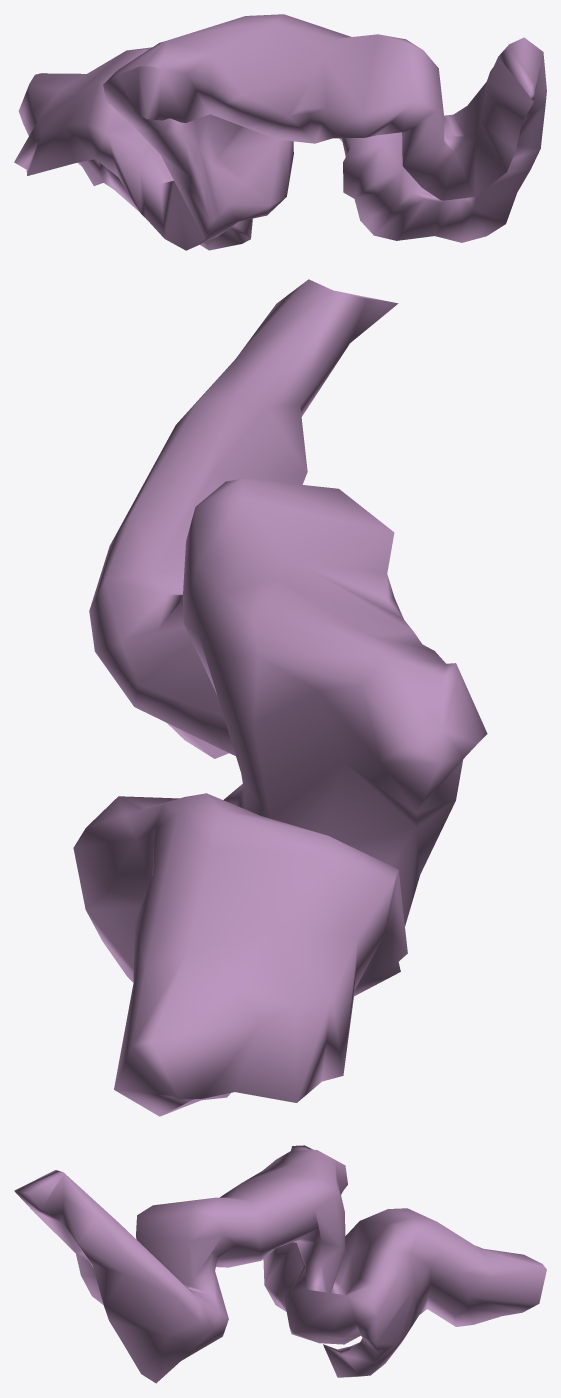
The picture shows the model from 3 angles, top to bottom: view 1: azimuth 30°, elevation 25°; view 2: azimuth 150°, elevation 25°; view 3: azimuth 270°, elevation 25°; orthographic projection. The views are drawn at different scales.
Visible parts, largest first — view 1: 右侧中央前沟下部; view 2: 右侧中央前沟下部; view 3: 右侧中央前沟下部.
Part boxes in pixels (x1,y1,x2,y2): 右侧中央前沟下部: (14, 14, 546, 250); 右侧中央前沟下部: (73, 279, 487, 1116); 右侧中央前沟下部: (14, 1145, 546, 1383).
Size of the model in its own units: 0.0389 by 0.0373 by 0.0706.
